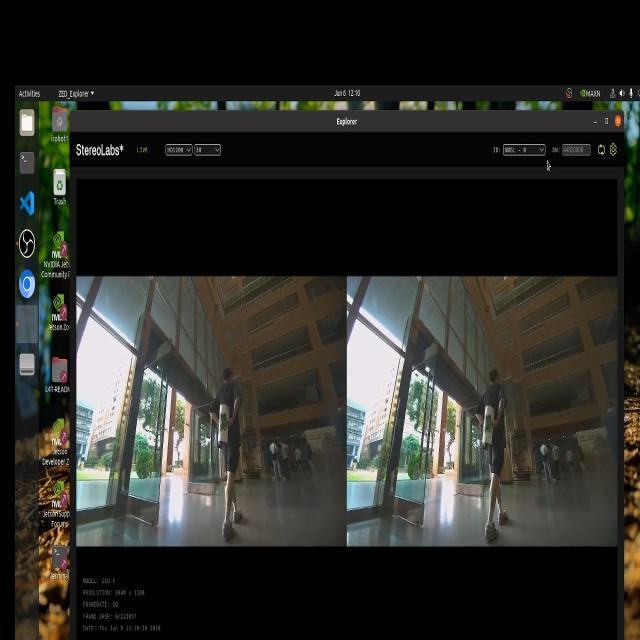green: (481, 402, 492, 440), (218, 406, 228, 444)
